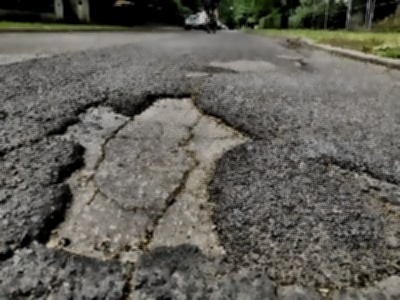pothole: (31, 89, 258, 261)
